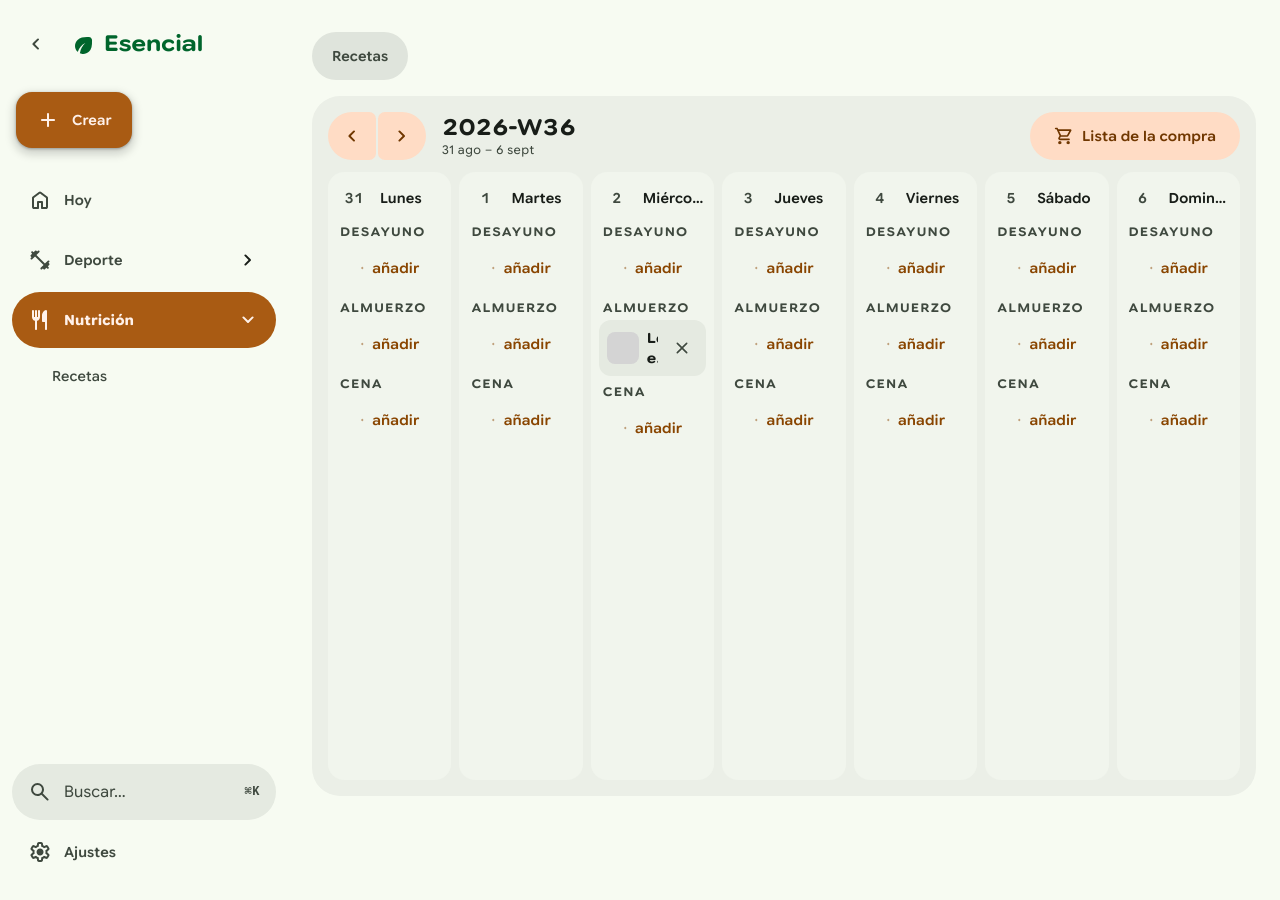
tooltip de la comida › aparece a los 500 ms, no antes, con la foto y el nombre completo
Hover over the link "Lentejas estofadas con chorizo y verduras de temporada" at point(632, 348), box [603,324,662,372]
Wait 500 ms
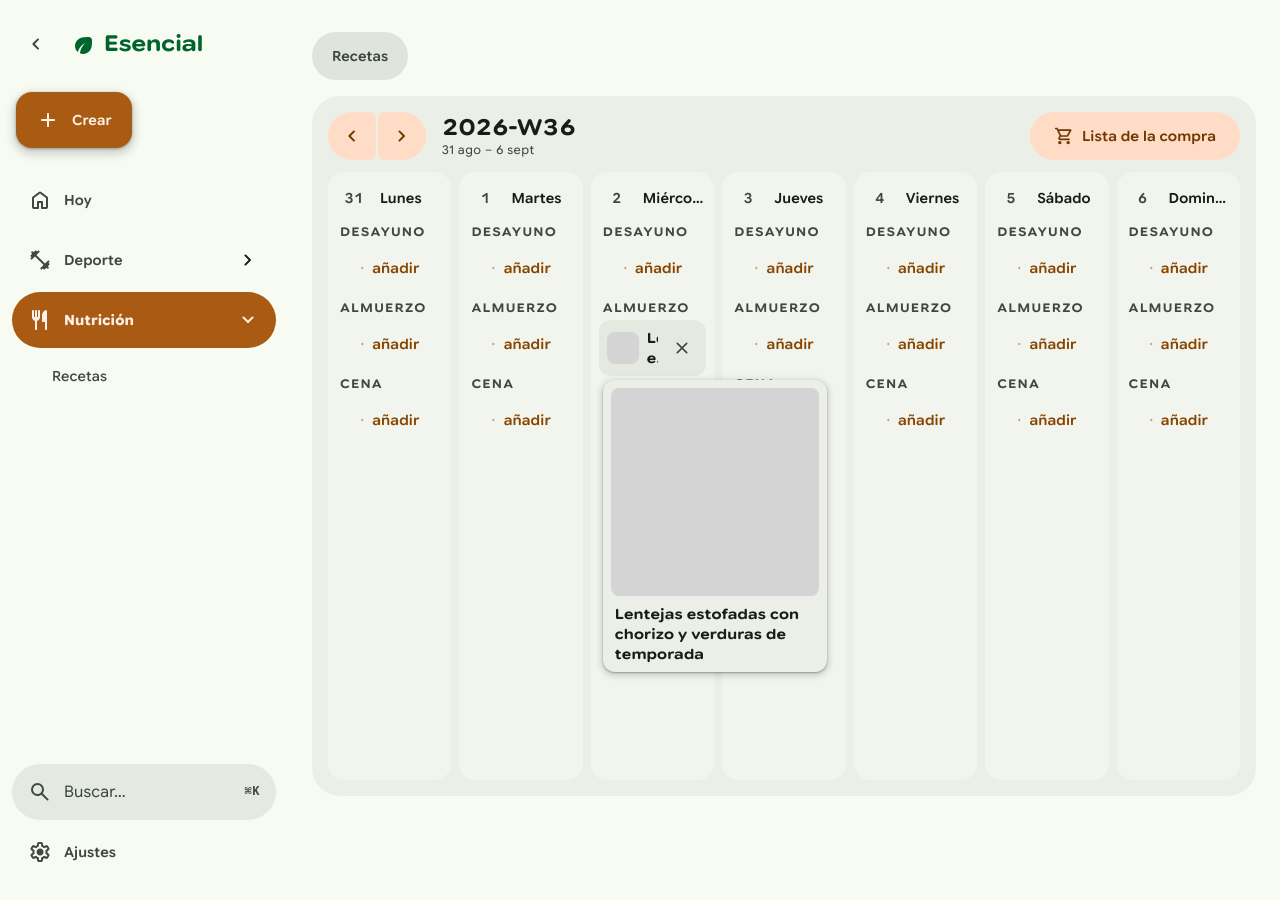
Expected: the 2nd text "Lentejas estofadas con chorizo y verduras de temporada" is shown, [611,604,819,664]
